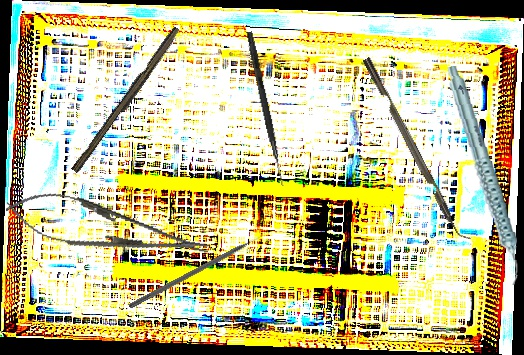Chopper: (362, 52, 474, 246)
Handpiece: (445, 62, 521, 289)
Hook Surgical: (128, 232, 267, 311), (244, 31, 288, 187)
Needle Holder: (0, 182, 215, 275)
Scalpel Handle: (71, 24, 183, 177)
